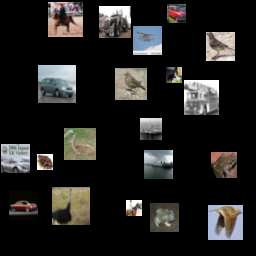airplane: (133, 26, 162, 55)
automobile: (38, 65, 76, 103), (9, 191, 38, 220), (1, 144, 30, 173), (167, 4, 186, 23)
bird: (52, 187, 90, 225), (208, 205, 243, 240), (115, 68, 147, 100), (206, 32, 235, 61)
deer: (64, 128, 96, 160)
dog: (166, 67, 182, 83)
frog: (150, 203, 179, 232), (211, 152, 237, 178), (37, 154, 53, 170)
ship: (144, 150, 173, 179), (140, 118, 162, 140)
